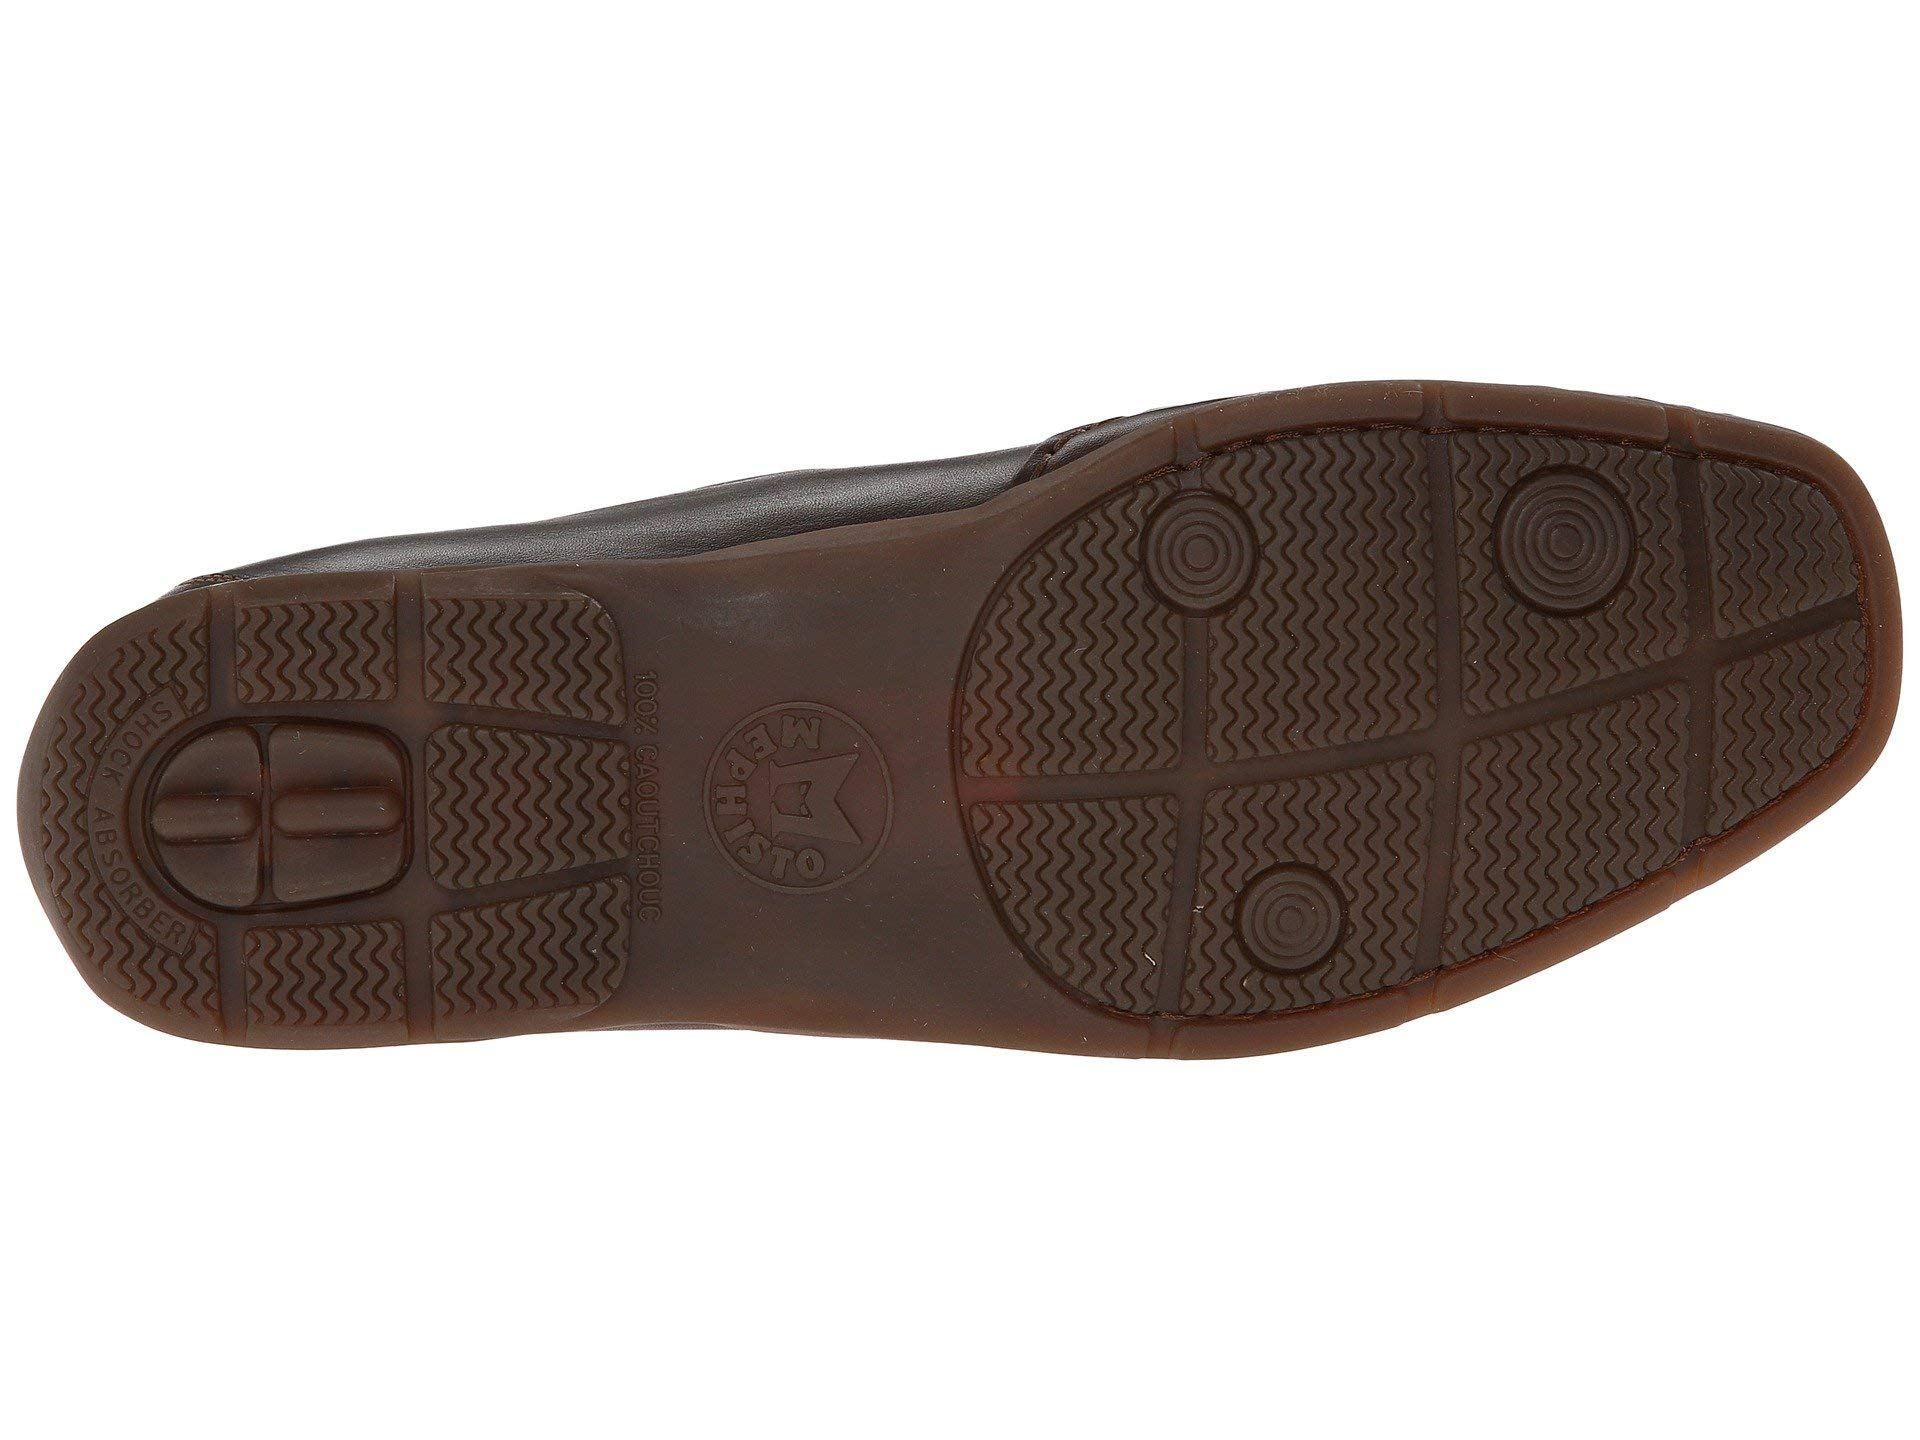chevron: (1172, 744, 1485, 1063), (395, 566, 686, 898), (1441, 399, 1722, 702), (1075, 461, 1311, 655)
circle: (1172, 744, 1485, 1063), (650, 652, 937, 979), (1441, 399, 1722, 702), (1075, 461, 1311, 655)
quad: (1172, 744, 1485, 1063), (395, 566, 686, 898), (1441, 399, 1722, 702)
text: (650, 652, 937, 979)
